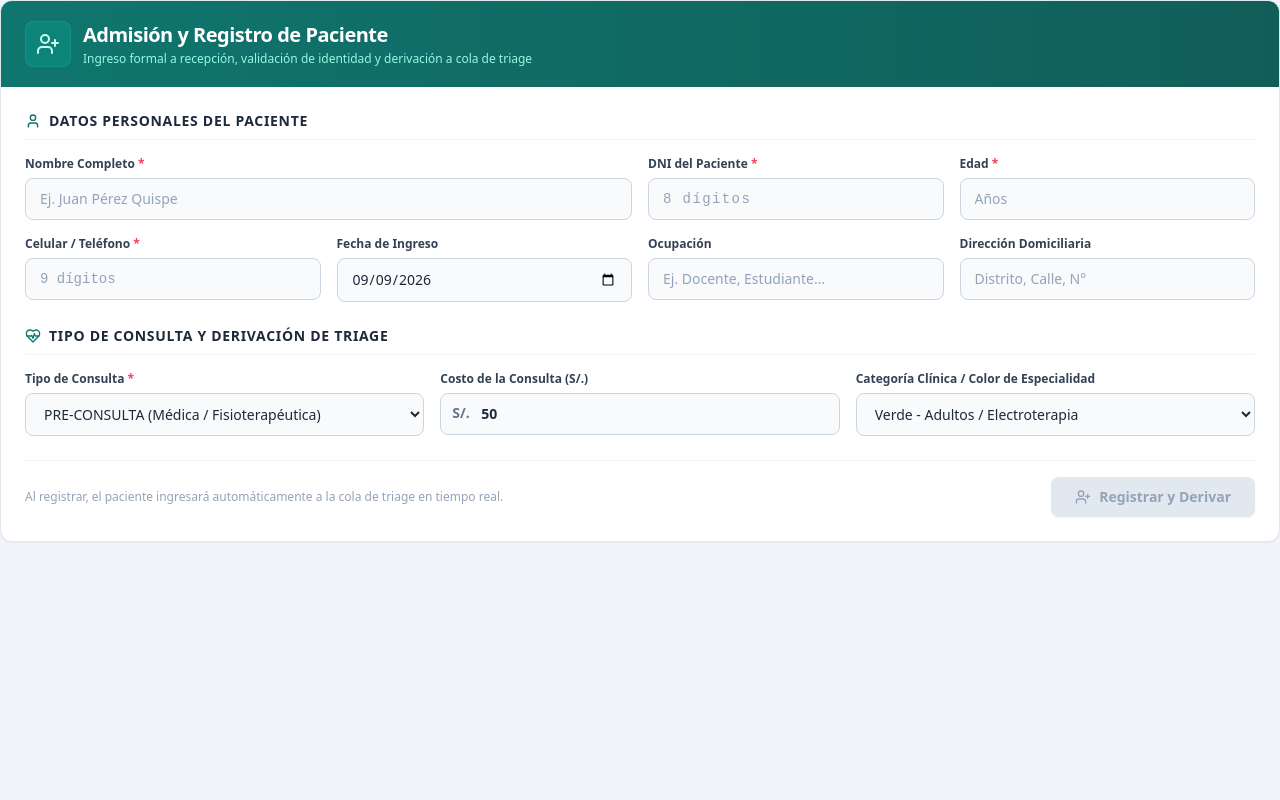
Test case: FormularioAdmision Component (Regla de Minoridad y Admisión) › debe desplegar reactivamente la sección de apoderado y advertencia si la edad es menor a 18 años
The image size is (1280, 800).
In the number field labelled "Edad *": [1107, 199] box top-left (960, 178), bottom-right (1255, 220), type "12"
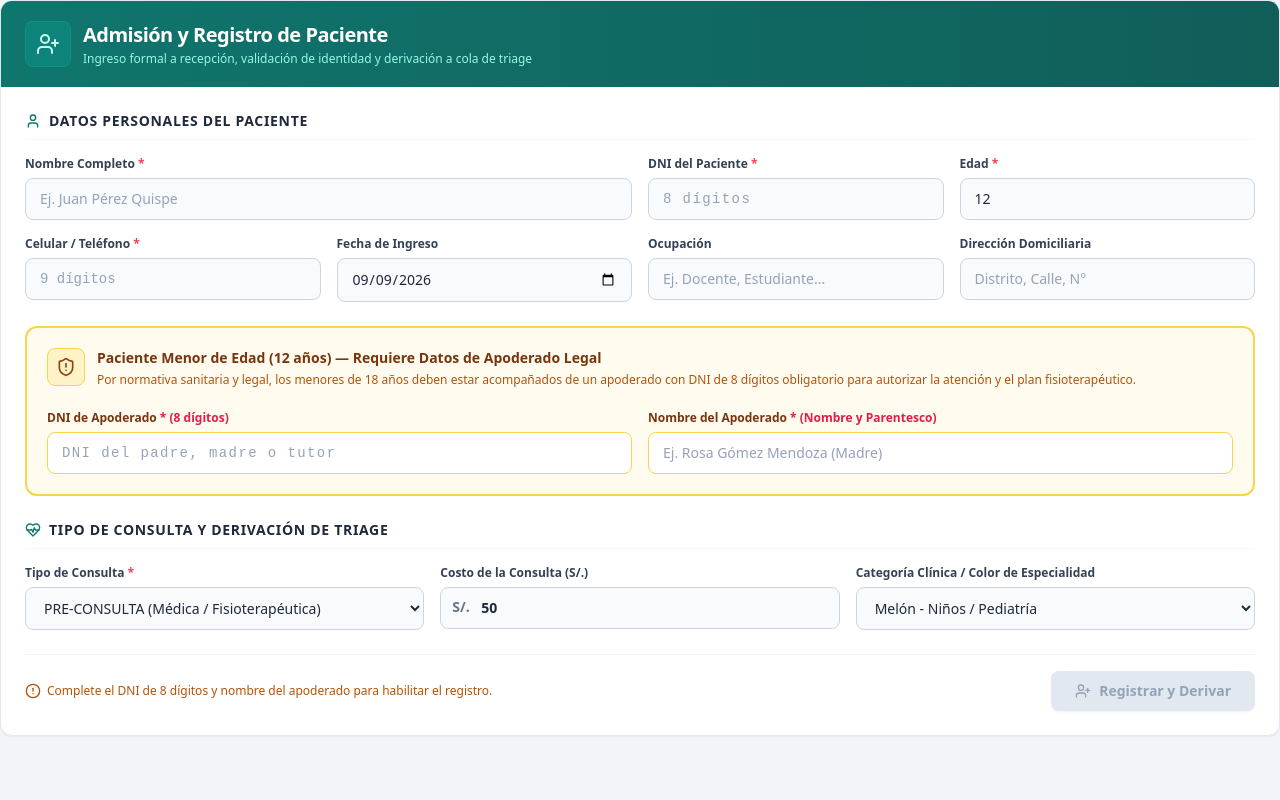
Check: the heading "Paciente Menor de Edad" is shown, box top-left (97, 348), bottom-right (274, 367)
Check: the field labelled "DNI de Apoderado * (8 dígitos)" is shown, box top-left (47, 432), bottom-right (632, 474)
Check: the field labelled "Nombre del Apoderado * (Nombre y Parentesco)" is shown, box top-left (648, 432), bottom-right (1233, 474)
